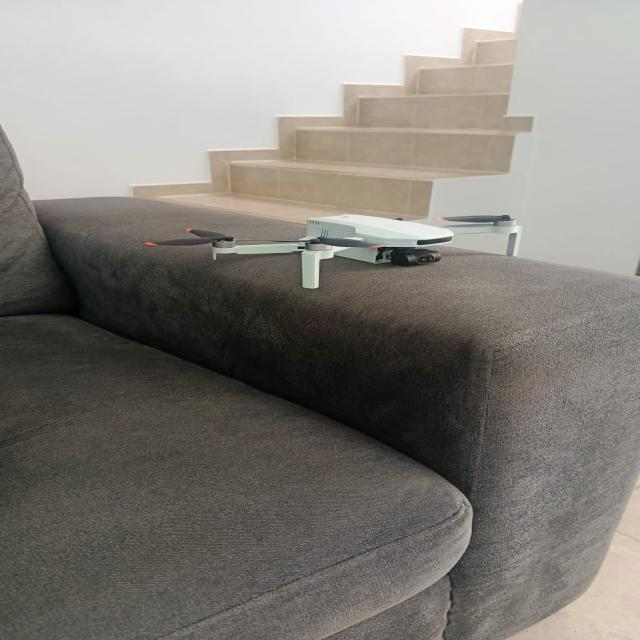dron: (142, 174, 566, 294)
